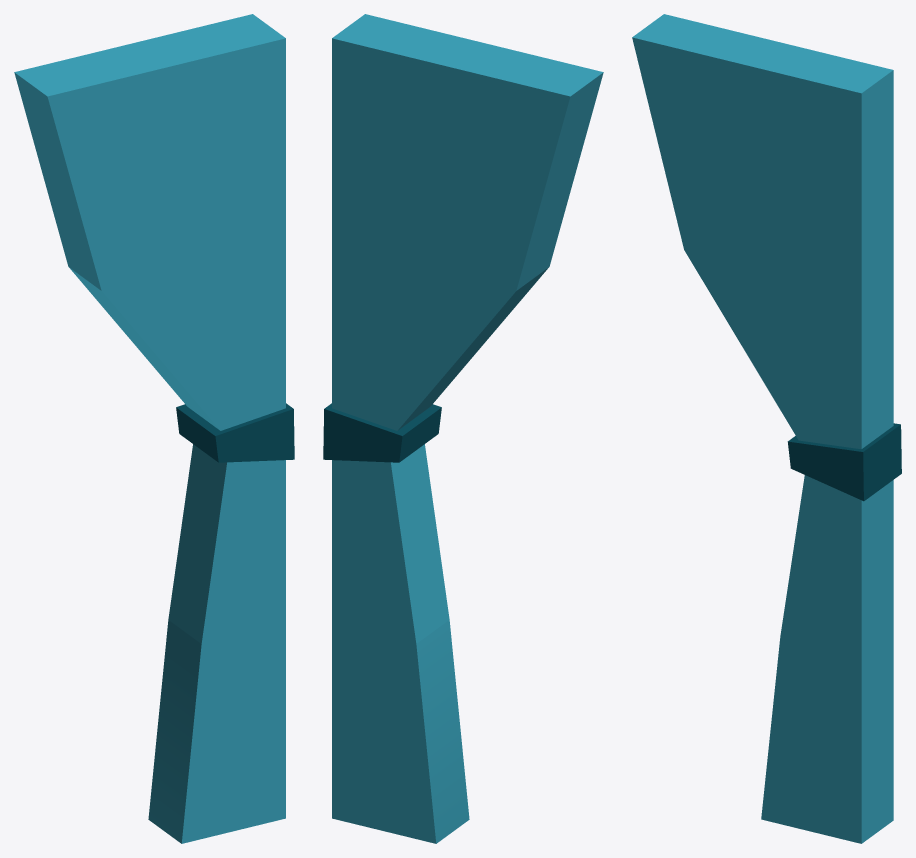
The model's file is Curtain 01 Blue.FBX.
3 renders of one model, left to right at view 1: azimuth 30°, elevation 25°; view 2: azimuth 150°, elevation 25°; view 3: azimuth 330°, elevation 25°, orthographic. The views are drawn at different scales.
Visible parts, largest first — view 1: Curtain 01 Blue; view 2: Curtain 01 Blue; view 3: Curtain 01 Blue.
Boxes of the visible parts, <box> form: Curtain 01 Blue: <box>14,14,294,843</box>; Curtain 01 Blue: <box>323,14,603,843</box>; Curtain 01 Blue: <box>632,14,901,843</box>.
Size of the model in its own units: 81.87 by 250 by 22.89.
